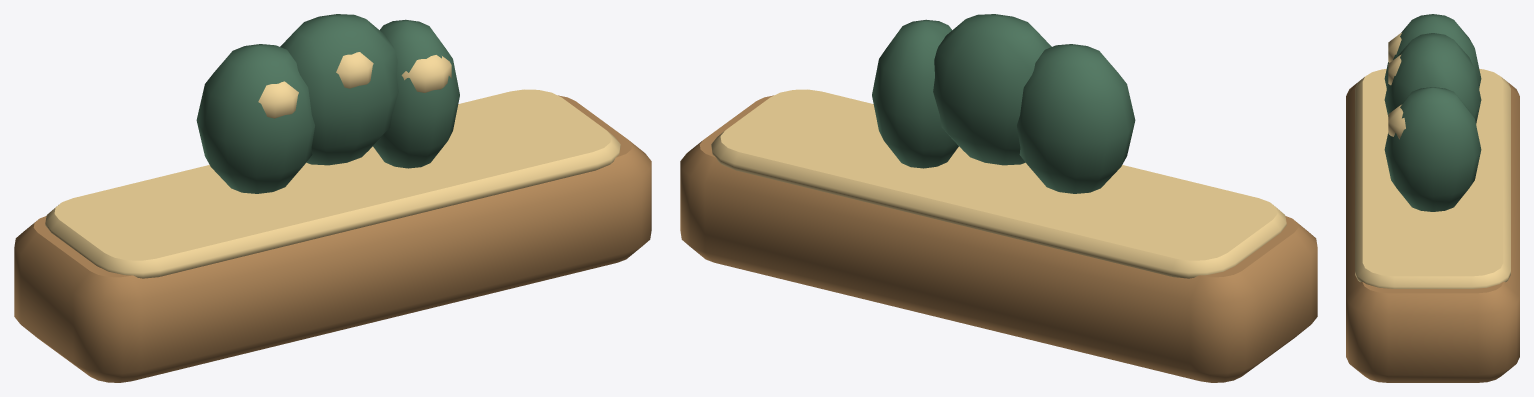
The model's file is planter_2.glb.
The picture shows the model from 3 angles, left to right: view 1: azimuth 30°, elevation 25°; view 2: azimuth 150°, elevation 25°; view 3: azimuth 270°, elevation 25°; orthographic projection. The views are drawn at different scales.
Parts seen in each view (by area): view 1: Planter; view 2: Planter; view 3: Planter.
Boxes of the visible parts, left/top/right/bottom form: Planter: left=14, top=14, right=651, bottom=382; Planter: left=680, top=14, right=1317, bottom=382; Planter: left=1346, top=14, right=1519, bottom=382.
Bounding box in the file's own units: 2.55 × 1.17 × 0.79.
